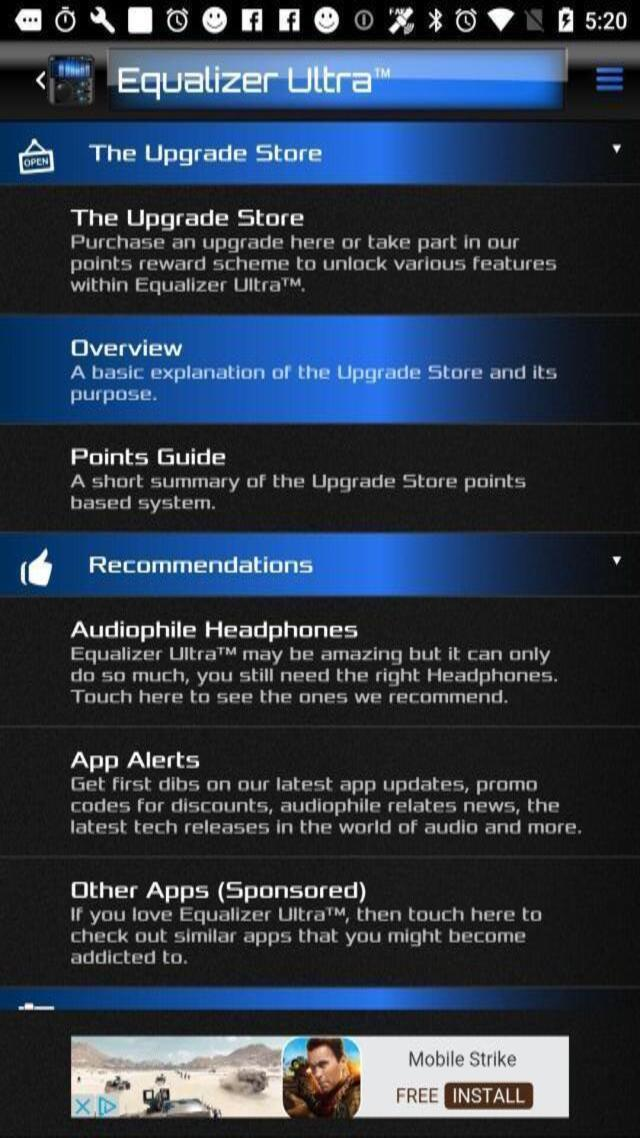Icon: (8, 546, 58, 594), (589, 58, 633, 100), (18, 134, 54, 176), (386, 6, 422, 38), (124, 2, 154, 36), (162, 5, 194, 36), (312, 5, 341, 39), (14, 2, 46, 32), (236, 4, 268, 34), (197, 5, 227, 35), (89, 2, 116, 35), (450, 7, 480, 34), (52, 1, 76, 34), (485, 8, 515, 32), (554, 6, 578, 36), (276, 7, 302, 34), (352, 6, 374, 34), (426, 9, 446, 37), (526, 9, 544, 33), (34, 66, 48, 92), (608, 138, 624, 160), (608, 550, 624, 567)
Image: (67, 1030, 574, 1120), (108, 64, 394, 99), (51, 51, 96, 108)
Text: (64, 818, 589, 840), (62, 644, 566, 666), (63, 361, 564, 383), (66, 796, 566, 817), (60, 774, 548, 795), (62, 905, 549, 926), (66, 256, 558, 276), (64, 232, 527, 253), (64, 667, 562, 686), (66, 687, 512, 708), (66, 472, 534, 492), (66, 926, 534, 946), (63, 879, 370, 903), (68, 620, 362, 643), (81, 552, 322, 579), (64, 204, 311, 230), (85, 142, 332, 168), (64, 276, 320, 298), (66, 444, 232, 470), (65, 334, 192, 360), (62, 748, 212, 770), (66, 494, 220, 514), (66, 947, 192, 967), (66, 384, 162, 406), (584, 9, 631, 32)
